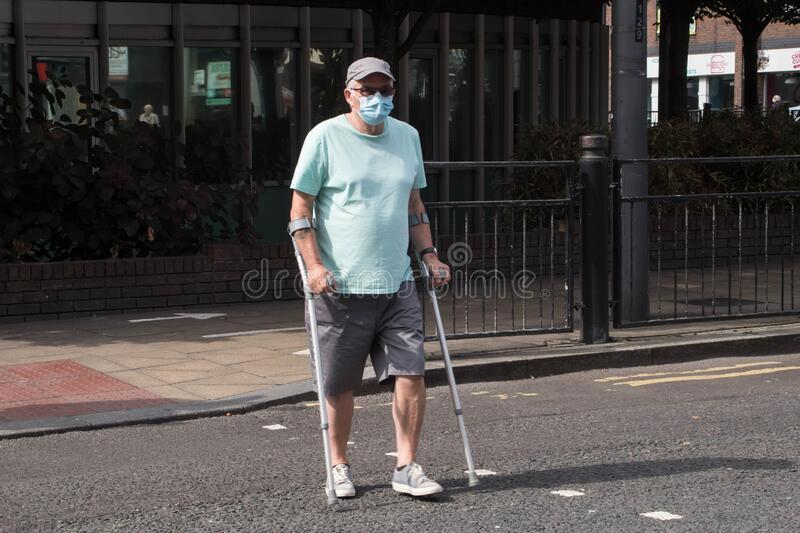crutches: (288, 57, 483, 508)
